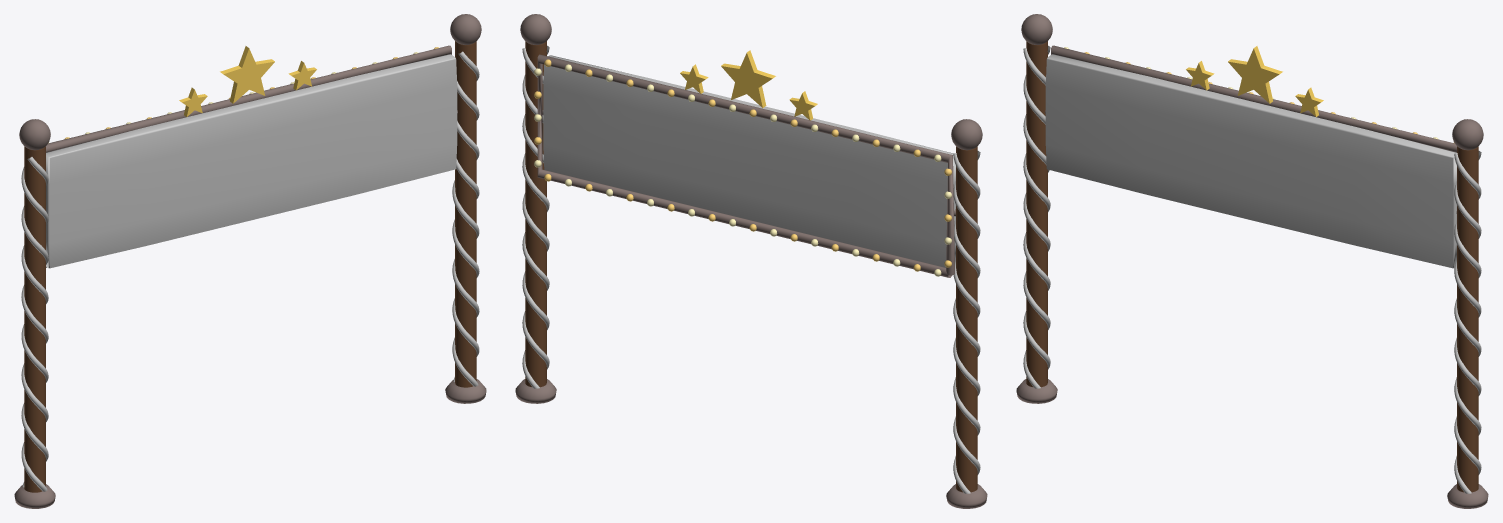
The model's file is ArcadeBestBoard.obj.
3 views of the same model, side by side, from view 1: azimuth 30°, elevation 25°; view 2: azimuth 150°, elevation 25°; view 3: azimuth 330°, elevation 25° (orthographic).
Parts seen in each view (by area): view 1: Panel, Posts, Trim, PostStripes, Stars; view 2: Panel, Posts, Trim, PostStripes, Stars, BulbsB, BulbsA; view 3: Panel, Posts, Trim, PostStripes, Stars.
Boxes of the visible parts, <box> form: Panel: <box>46,54,457,268</box>; Posts: <box>24,41,476,492</box>; Trim: <box>14,14,486,508</box>; PostStripes: <box>21,51,479,491</box>; Stars: <box>179,46,316,116</box>; Panel: <box>543,55,955,267</box>; Posts: <box>525,41,977,492</box>; Trim: <box>515,14,987,508</box>; PostStripes: <box>522,45,980,493</box>; Stars: <box>680,50,817,120</box>; BulbsB: <box>534,59,951,271</box>; BulbsA: <box>534,64,951,276</box>; Panel: <box>1045,54,1456,268</box>; Posts: <box>1026,41,1478,492</box>; Trim: <box>1016,14,1488,508</box>; PostStripes: <box>1023,45,1481,493</box>; Stars: <box>1186,46,1323,116</box>.
Size of the model in its own units: 27.3 by 22.3 by 2.1.
